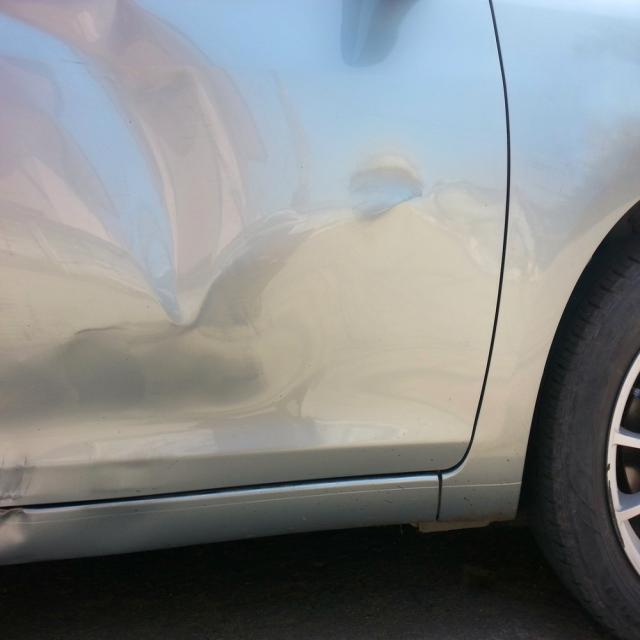dent: (0, 0, 453, 450), (347, 0, 413, 65), (0, 459, 32, 501), (0, 511, 29, 541)
